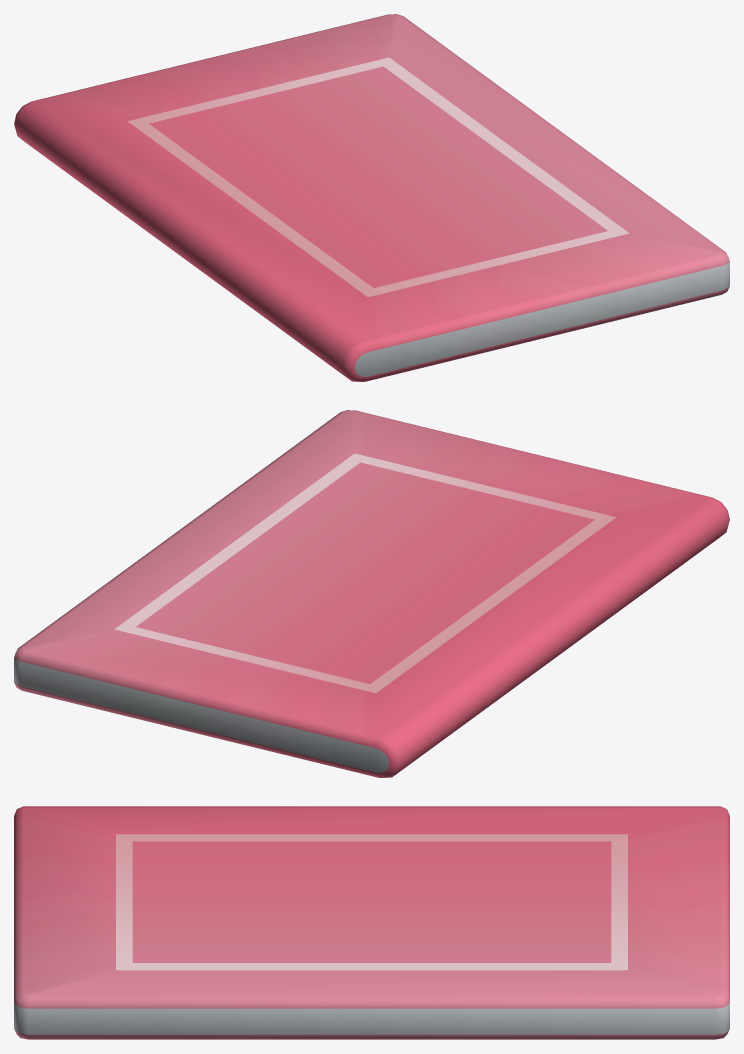
The model's file is Magazine_03.glb.
3 renders of one model, top to bottom at view 1: azimuth 30°, elevation 25°; view 2: azimuth 150°, elevation 25°; view 3: azimuth 270°, elevation 25°, orthographic. The views are drawn at different scales.
Parts seen in each view (by area): view 1: Magazine_03; view 2: Magazine_03; view 3: Magazine_03.
Part boxes in pixels (x1,y1,x2,y2): Magazine_03: (14,14,729,381); Magazine_03: (14,410,729,777); Magazine_03: (14,806,729,1039).
Size of the model in its own units: 0.2 by 0.02 by 0.3.
Materials: 1 (1 with a texture image).
